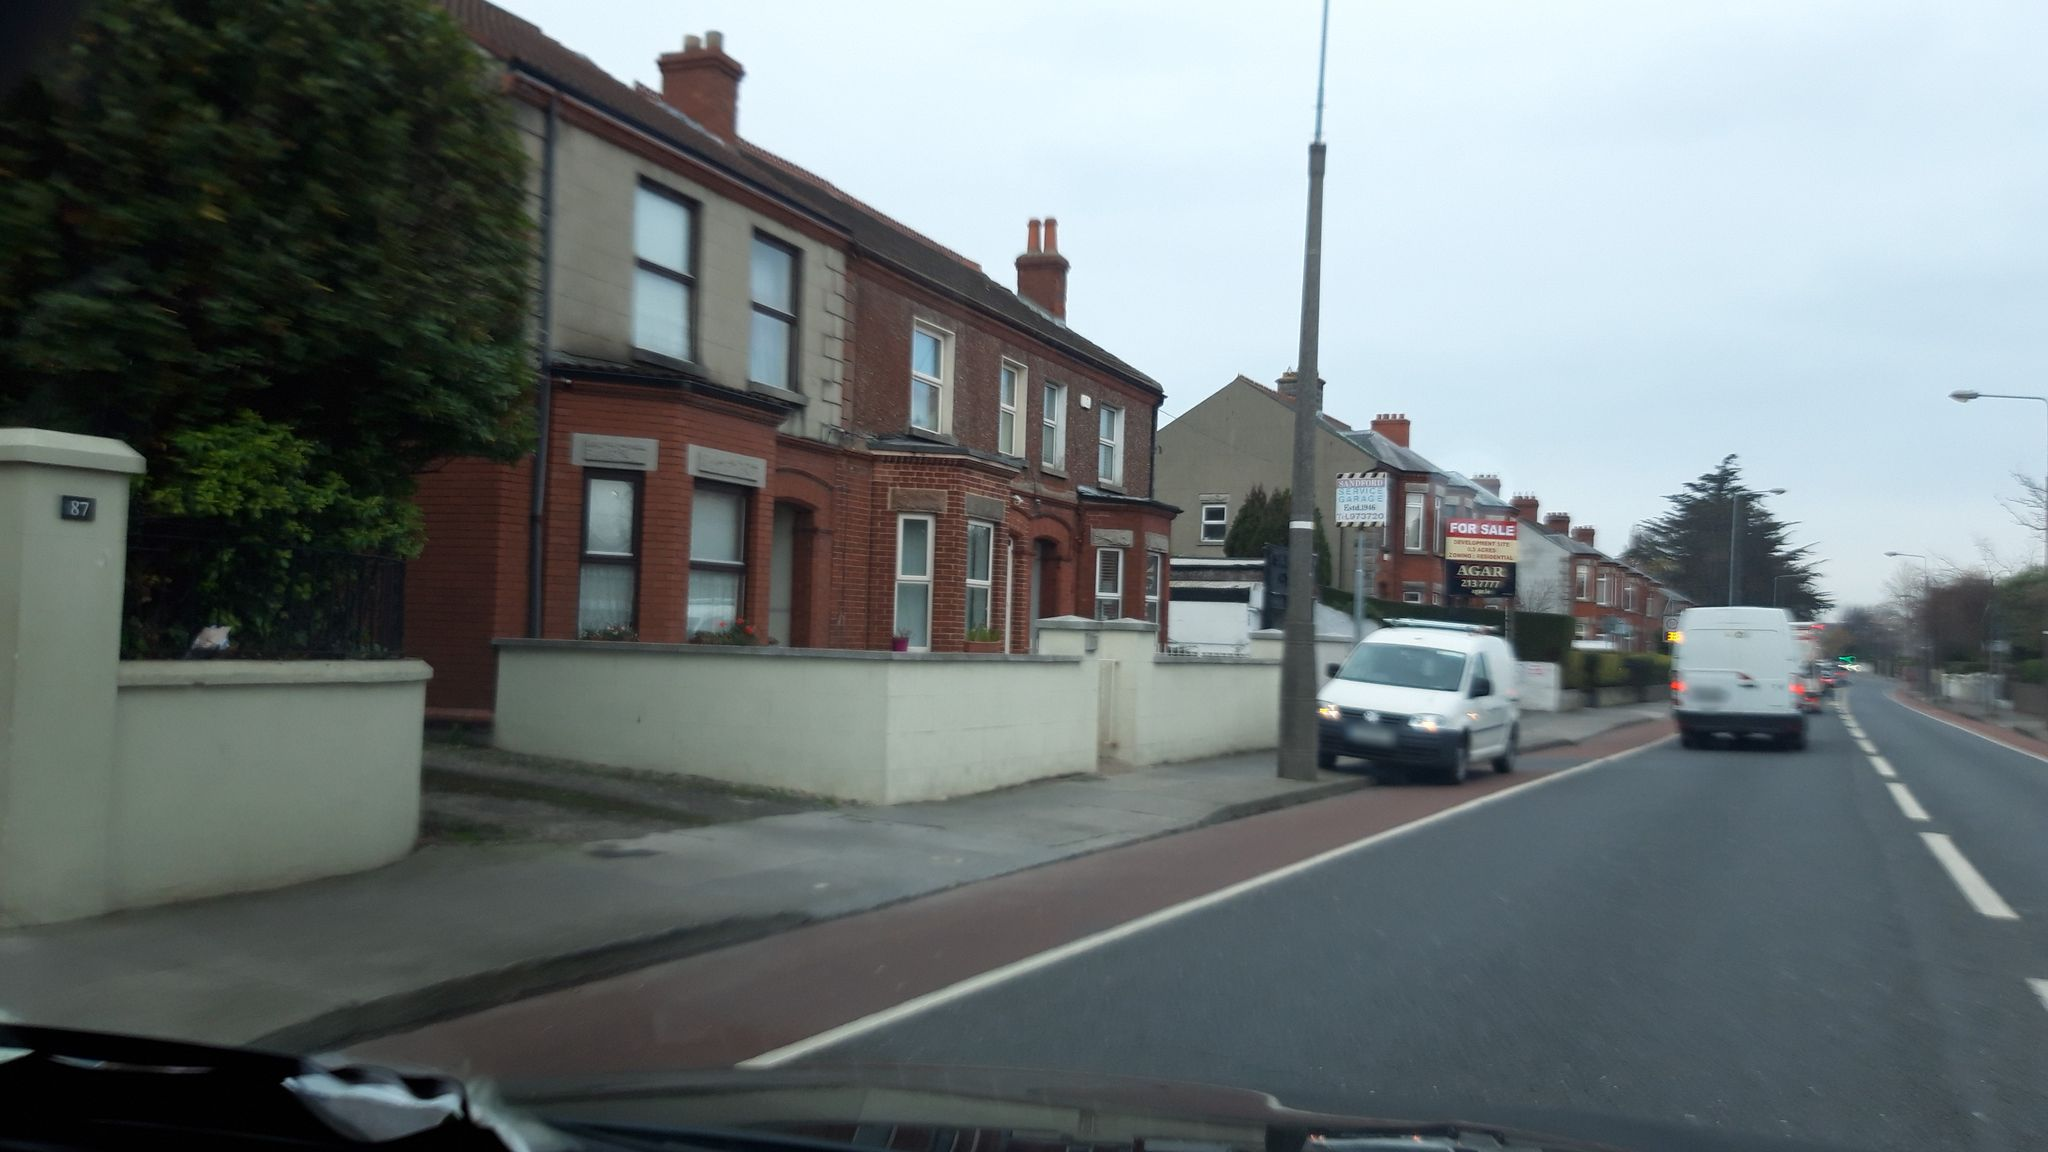property sign: (1431, 499, 1522, 599)
